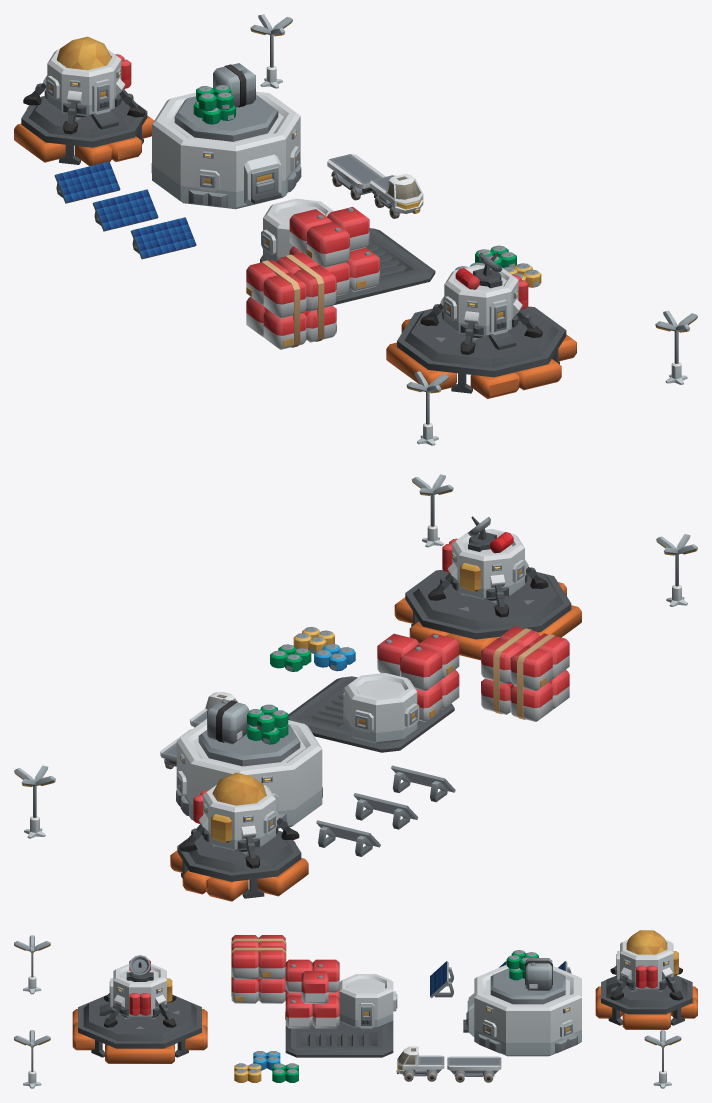
File: escenario.glb
3 renders of one model, top to bottom at view 1: azimuth 30°, elevation 25°; view 2: azimuth 150°, elevation 25°; view 3: azimuth 270°, elevation 25°, orthographic. The views are drawn at different scales.
Parts seen in each view (by area): view 1: basemodule_C, landingpad_large, cargodepot_A, cargo_A_stacked, lander_B, lander_A, landingpad_small, roofmodule_cargo_A, solarpanel.001, solarpanel, solarpanel.002, spacetruck (+4 smaller); view 2: cargodepot_A, landingpad_large, basemodule_C, cargo_A_stacked, landingpad_small, lander_B, lander_A, roofmodule_cargo_A, solarpanel.001, solarpanel, solarpanel.002, lights.001 (+5 smaller); view 3: cargodepot_A, basemodule_C, landingpad_large, landingpad_small, cargo_A_stacked, lander_B, lander_A, roofmodule_cargo_A, spacetruck, spacetruck_trailer, solarpanel.002, lights.002 (+5 smaller).
Boxes of the visible parts, left/top/right/bottom form: basemodule_C: left=151, top=91, right=301, bottom=209; landingpad_large: left=386, top=306, right=576, bottom=398; cargodepot_A: left=260, top=198, right=435, bottom=304; cargo_A_stacked: left=246, top=252, right=336, bottom=349; lander_B: left=23, top=36, right=145, bottom=134; lander_A: left=420, top=252, right=542, bottom=354; landingpad_small: left=14, top=96, right=153, bottom=166; roofmodule_cargo_A: left=174, top=63, right=278, bottom=141; solarpanel.001: left=92, top=189, right=158, bottom=231; solarpanel: left=54, top=161, right=120, bottom=203; solarpanel.002: left=130, top=217, right=196, bottom=259; spacetruck: left=370, top=174, right=423, bottom=213; cargodepot_A: left=288, top=633, right=459, bottom=752; landingpad_large: left=394, top=569, right=581, bottom=660; basemodule_C: left=176, top=719, right=322, bottom=828; cargo_A_stacked: left=481, top=626, right=569, bottom=721; landingpad_small: left=170, top=830, right=308, bottom=901; lander_B: left=179, top=772, right=299, bottom=868; lander_A: left=428, top=516, right=548, bottom=617; roofmodule_cargo_A: left=198, top=699, right=300, bottom=766; solarpanel.001: left=353, top=793, right=418, bottom=829; solarpanel: left=316, top=820, right=380, bottom=856; solarpanel.002: left=391, top=765, right=455, bottom=802; lights.001: left=411, top=474, right=453, bottom=547; cargodepot_A: left=285, top=959, right=397, bottom=1057; basemodule_C: left=463, top=964, right=581, bottom=1056; landingpad_large: left=72, top=995, right=207, bottom=1063; landingpad_small: left=595, top=975, right=697, bottom=1029; cargo_A_stacked: left=231, top=935, right=286, bottom=1003; lander_B: left=606, top=930, right=682, bottom=1000; lander_A: left=99, top=955, right=176, bottom=1027; roofmodule_cargo_A: left=490, top=950, right=565, bottom=1004; spacetruck: left=396, top=1046, right=444, bottom=1076; spacetruck_trailer: left=447, top=1056, right=501, bottom=1076; solarpanel.002: left=430, top=961, right=453, bottom=997; lights.002: left=14, top=935, right=50, bottom=994.
Size of the model in its own units: 4.99 by 1.84 by 12.69.
Materials: 1 (1 with a texture image).
